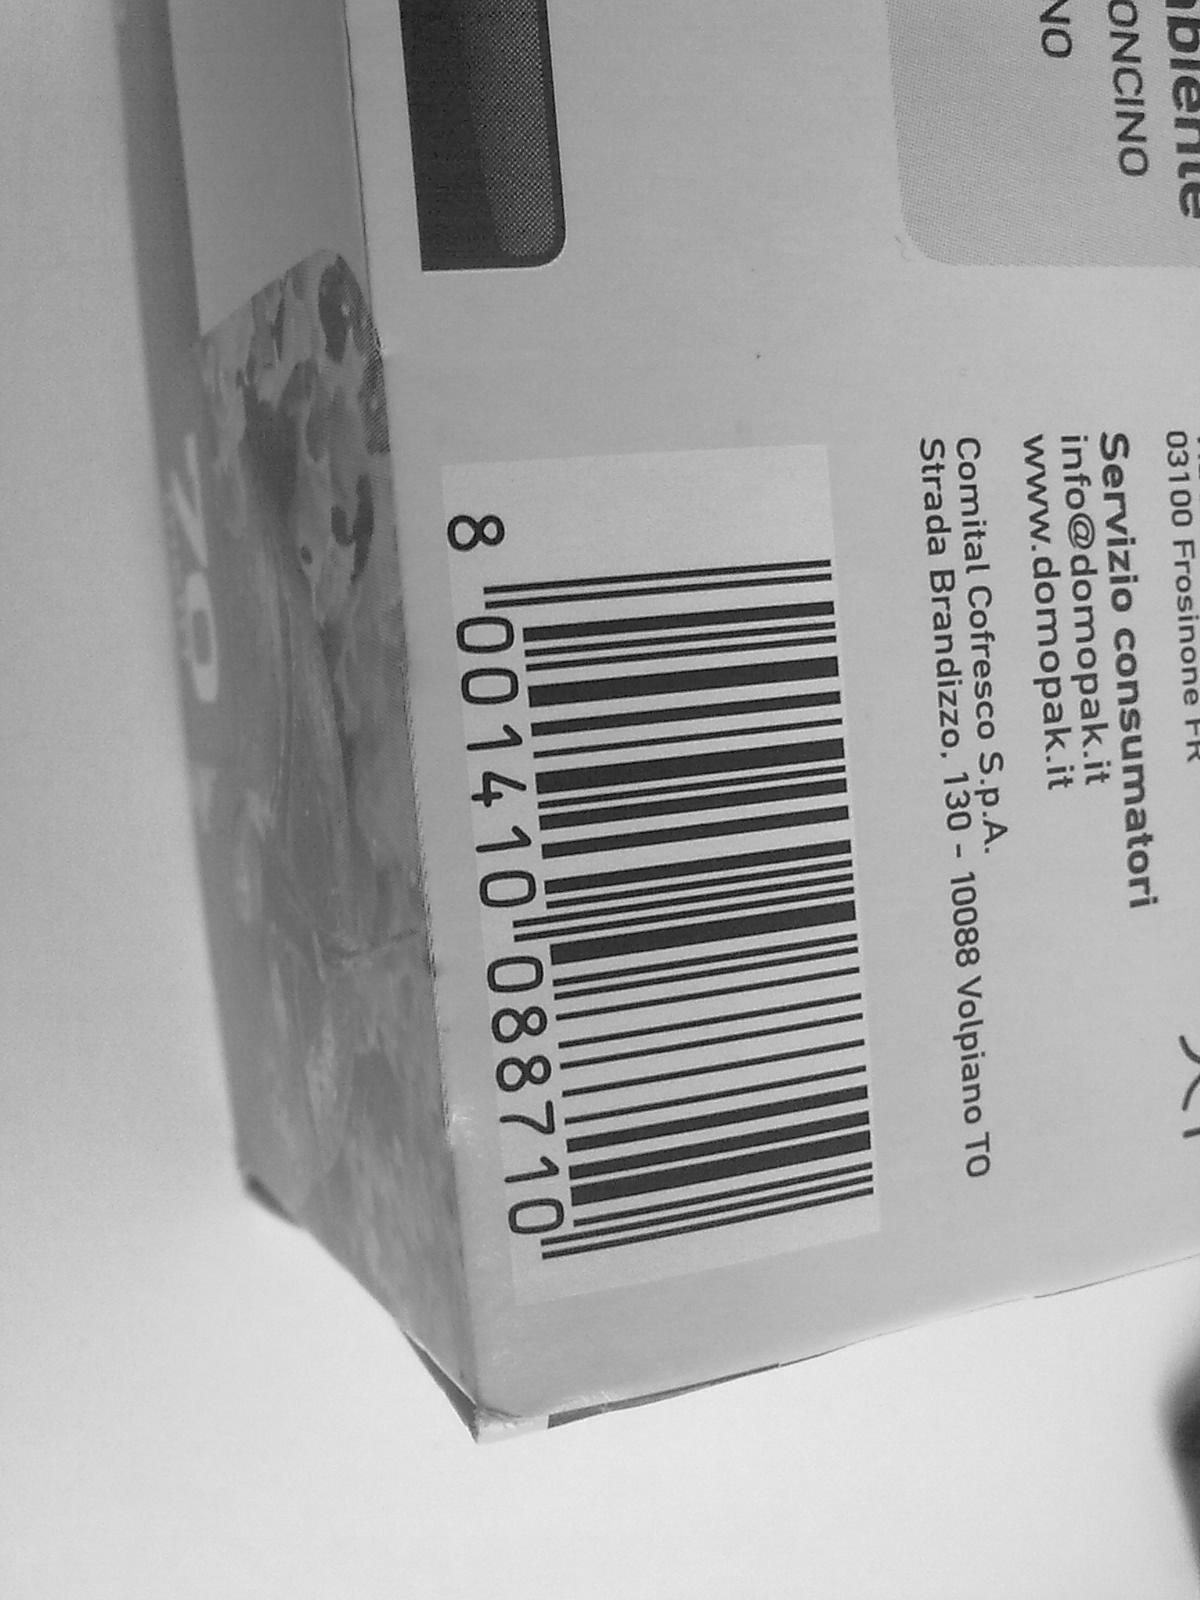Barcode: (453, 466, 909, 1251)
